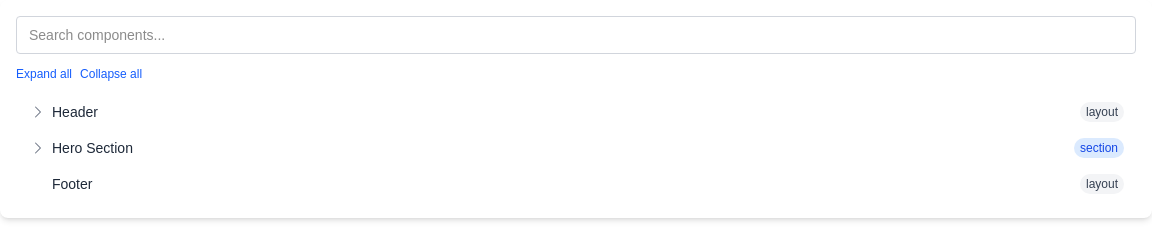
ComponentTree › filters and includes children matching search
The width and height of the screenshot is (1152, 239).
Type "Logo" into the field with placeholder "Search components..." at (576, 35), box [16,16,1136,54]
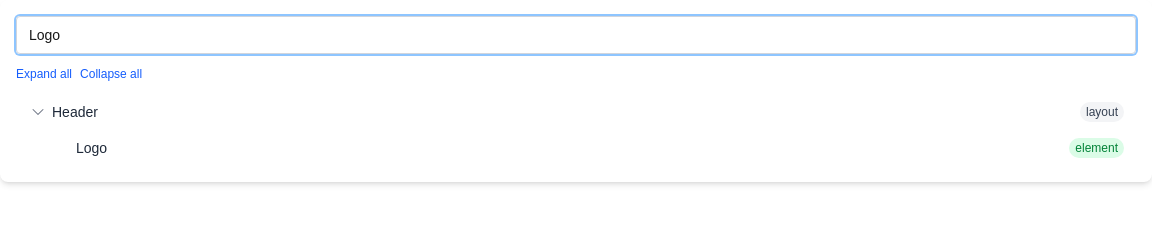
Expected: the button "Header" is shown, [52,102,1080,122]
Expected: the button "Logo" is shown, [76,138,1069,158]
Expected: the button "Hero Section" is gone
